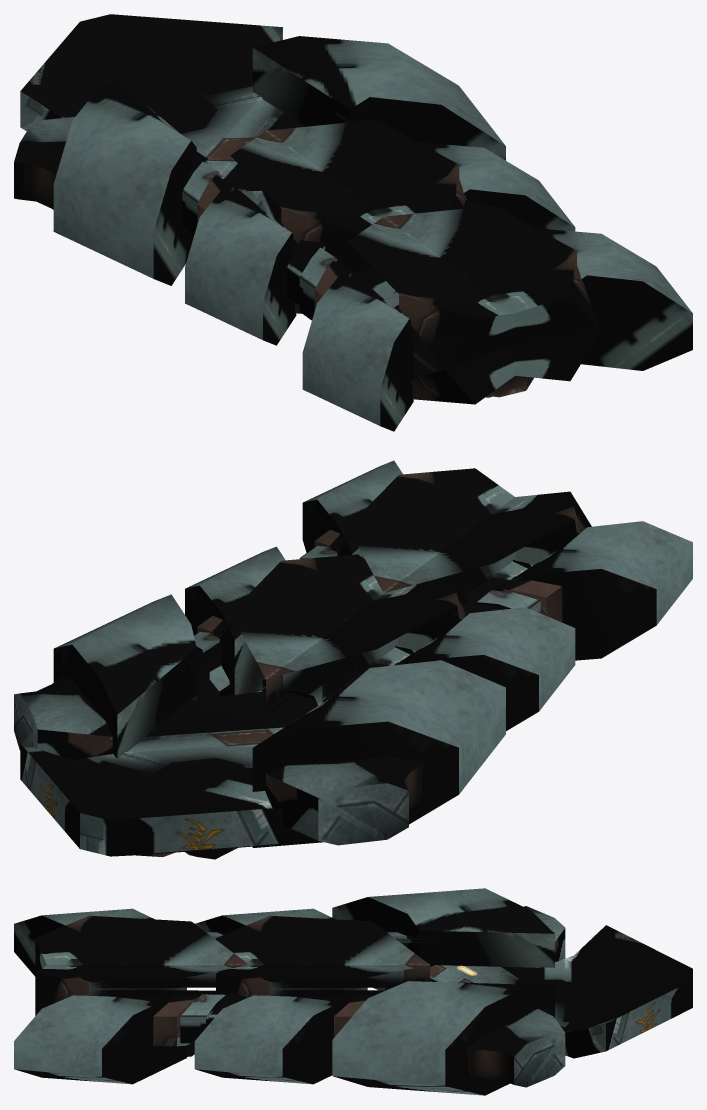
Rendered from Kuma Naka.fbx.
3 renders of one model, top to bottom at view 1: azimuth 30°, elevation 25°; view 2: azimuth 150°, elevation 25°; view 3: azimuth 270°, elevation 25°, orthographic. The views are drawn at different scales.
Parts seen in each view (by area): view 1: Kuma Naka; view 2: Kuma Naka; view 3: Kuma Naka.
Boxes of the visible parts, x1,y1,x2,y2 form: Kuma Naka: [14, 14, 692, 431]; Kuma Naka: [14, 460, 692, 859]; Kuma Naka: [14, 888, 692, 1095].
Bounding box in the file's own units: 99.61 × 39.19 × 188.
1 material, 1 textured.
